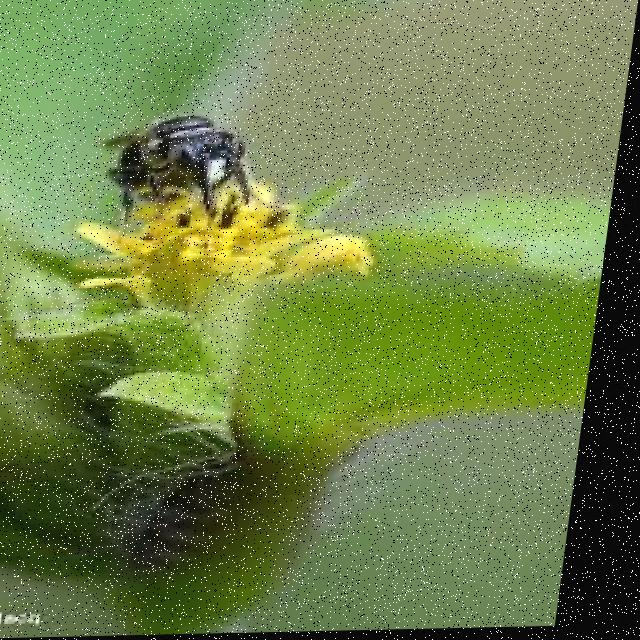Braunsapis: (74, 94, 310, 249)
